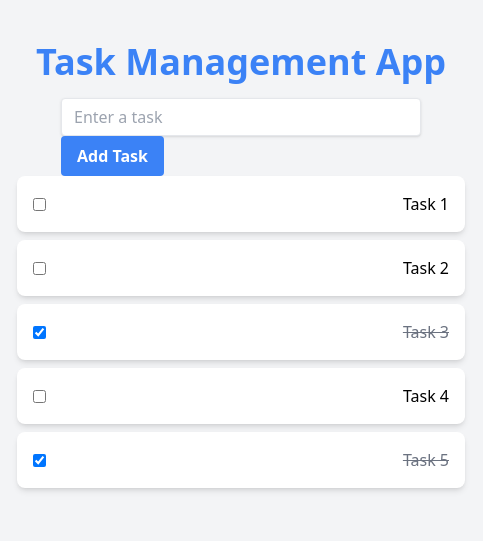
Scenario: App Component › adds a new task correctly
The image size is (483, 541).
Step 1. Type "New Task" into the field with placeholder "Enter a task" → (241, 117), box [61, 98, 421, 136]
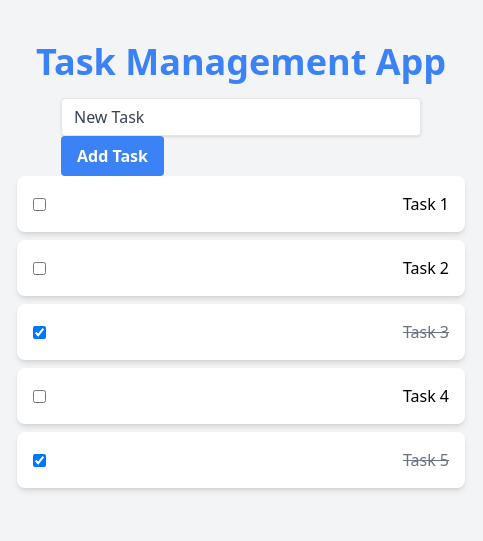
Step 2. Click the button "Add Task" → (112, 156), box [61, 136, 164, 176]
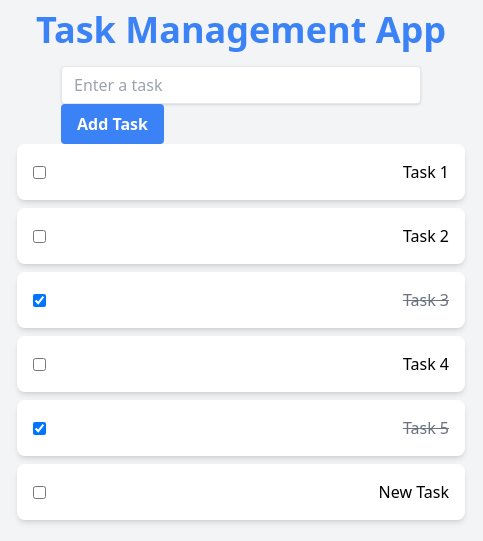
Result: the text "New Task" is shown at [379, 480, 449, 504]
